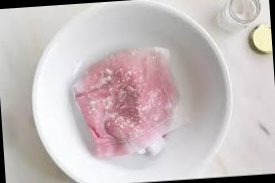wine: (76, 63, 180, 149)
